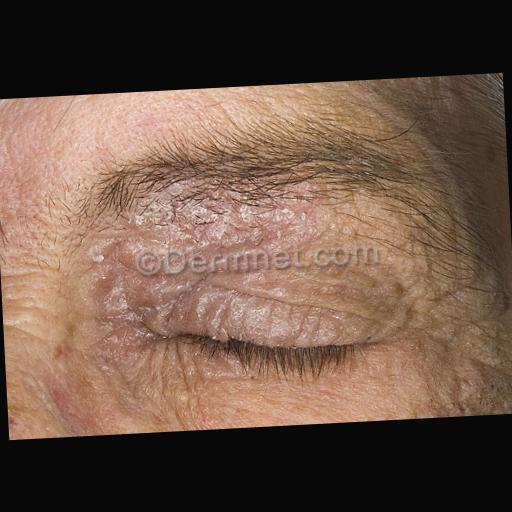Skin_Lesion: (50, 339, 74, 366)
